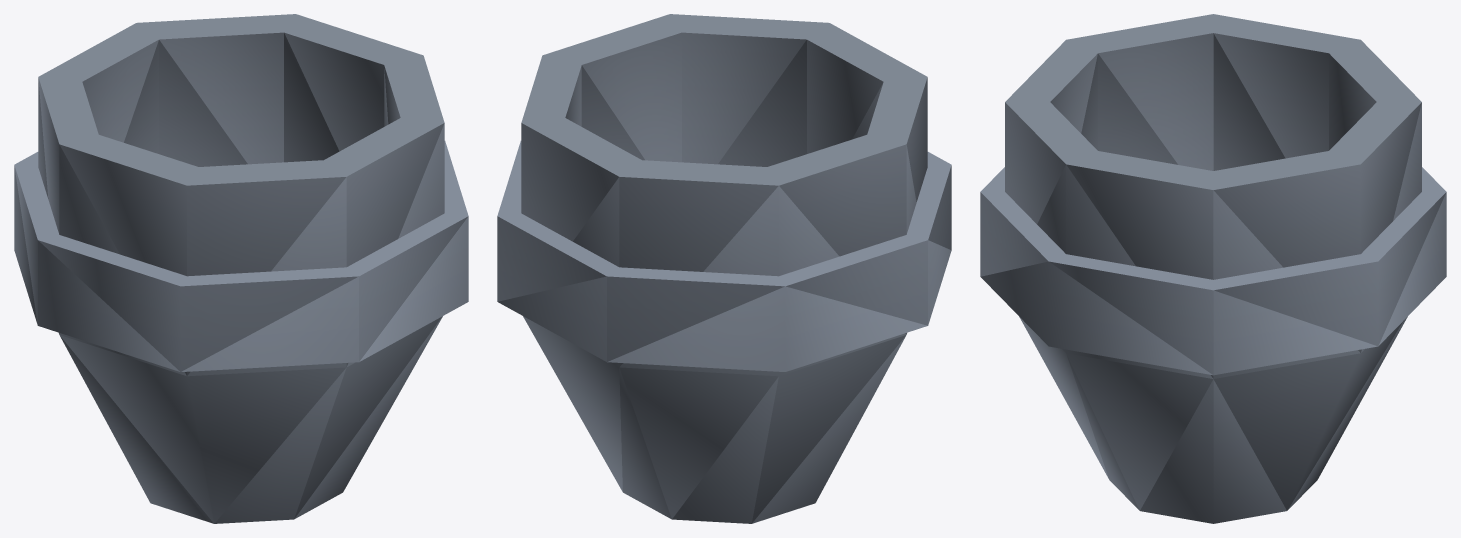
The model's file is factory_hopper_round.fbx.
The picture shows the model from 3 angles, left to right: view 1: azimuth 30°, elevation 25°; view 2: azimuth 150°, elevation 25°; view 3: azimuth 270°, elevation 25°; orthographic projection.
Visible parts, largest first — view 1: factory_hopper_round; view 2: factory_hopper_round; view 3: factory_hopper_round.
Part boxes in pixels (x1,y1,x2,y2): factory_hopper_round: (14, 14, 468, 523); factory_hopper_round: (497, 14, 951, 523); factory_hopper_round: (980, 14, 1446, 523).
Bounding box in the file's own units: 2.91 × 2.6 × 2.91.
1 material, 1 textured.
